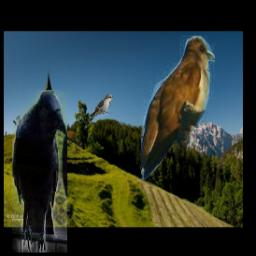Crow: (13, 91, 68, 254)
Cuckoo: (142, 36, 216, 181), (85, 96, 114, 129)
